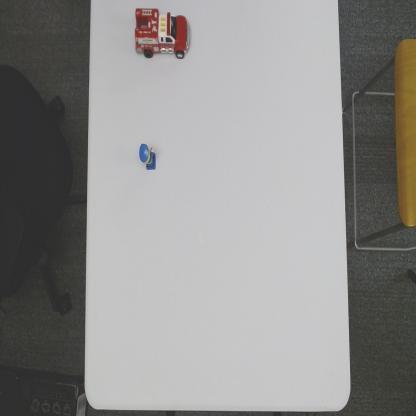Firetruck: (133, 4, 191, 63)
